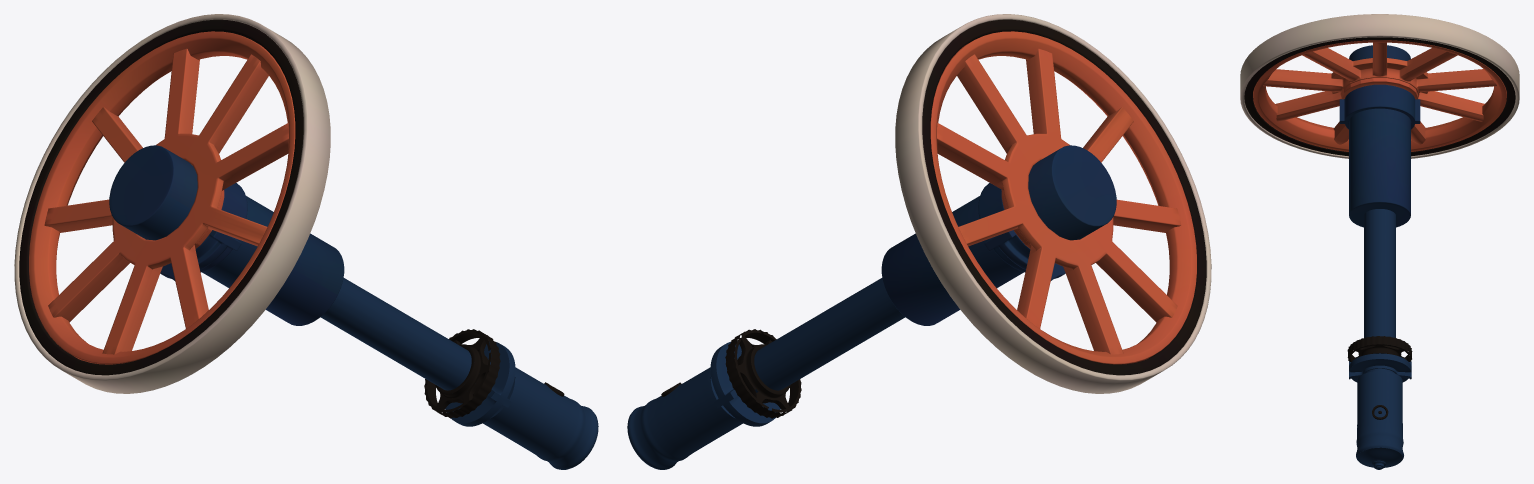
File: ogs5.gltf
The picture shows the model from 3 angles, left to right: view 1: azimuth 30°, elevation 25°; view 2: azimuth 150°, elevation 25°; view 3: azimuth 270°, elevation 25°; orthographic projection. The views are drawn at different scales.
Parts seen in each view (by area): view 1: axe central 3_PhysicalMaterial_0, Retopo_axe central 1_PhysicalMaterial_0.001; view 2: axe central 3_PhysicalMaterial_0, Retopo_axe central 1_PhysicalMaterial_0.001; view 3: axe central 3_PhysicalMaterial_0, Retopo_axe central 1_PhysicalMaterial_0.001.
Boxes of the visible parts, x1,y1,x2,y2 form: axe central 3_PhysicalMaterial_0: [14, 14, 344, 393]; Retopo_axe central 1_PhysicalMaterial_0.001: [320, 278, 598, 469]; axe central 3_PhysicalMaterial_0: [881, 14, 1211, 393]; Retopo_axe central 1_PhysicalMaterial_0.001: [627, 278, 905, 469]; axe central 3_PhysicalMaterial_0: [1240, 14, 1519, 227]; Retopo_axe central 1_PhysicalMaterial_0.001: [1347, 209, 1412, 469].
Bounding box in the file's own units: 0.7055 × 0.6361 × 0.4533.
3 materials, 1 textured.
